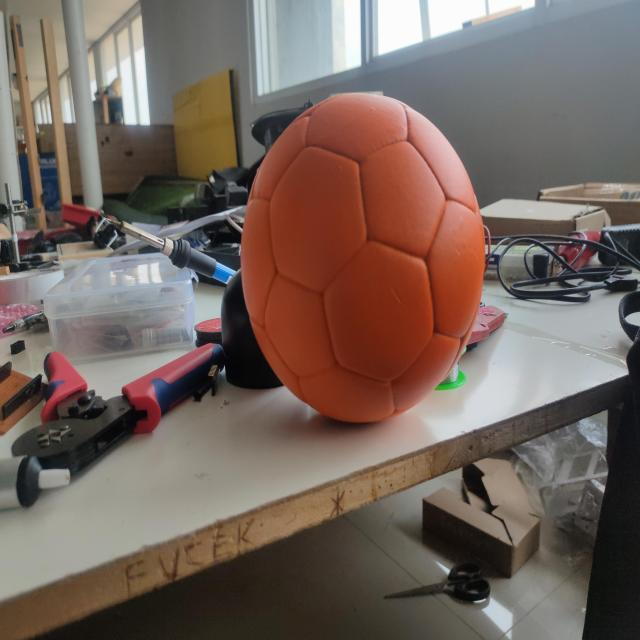bola: (232, 68, 493, 430)
